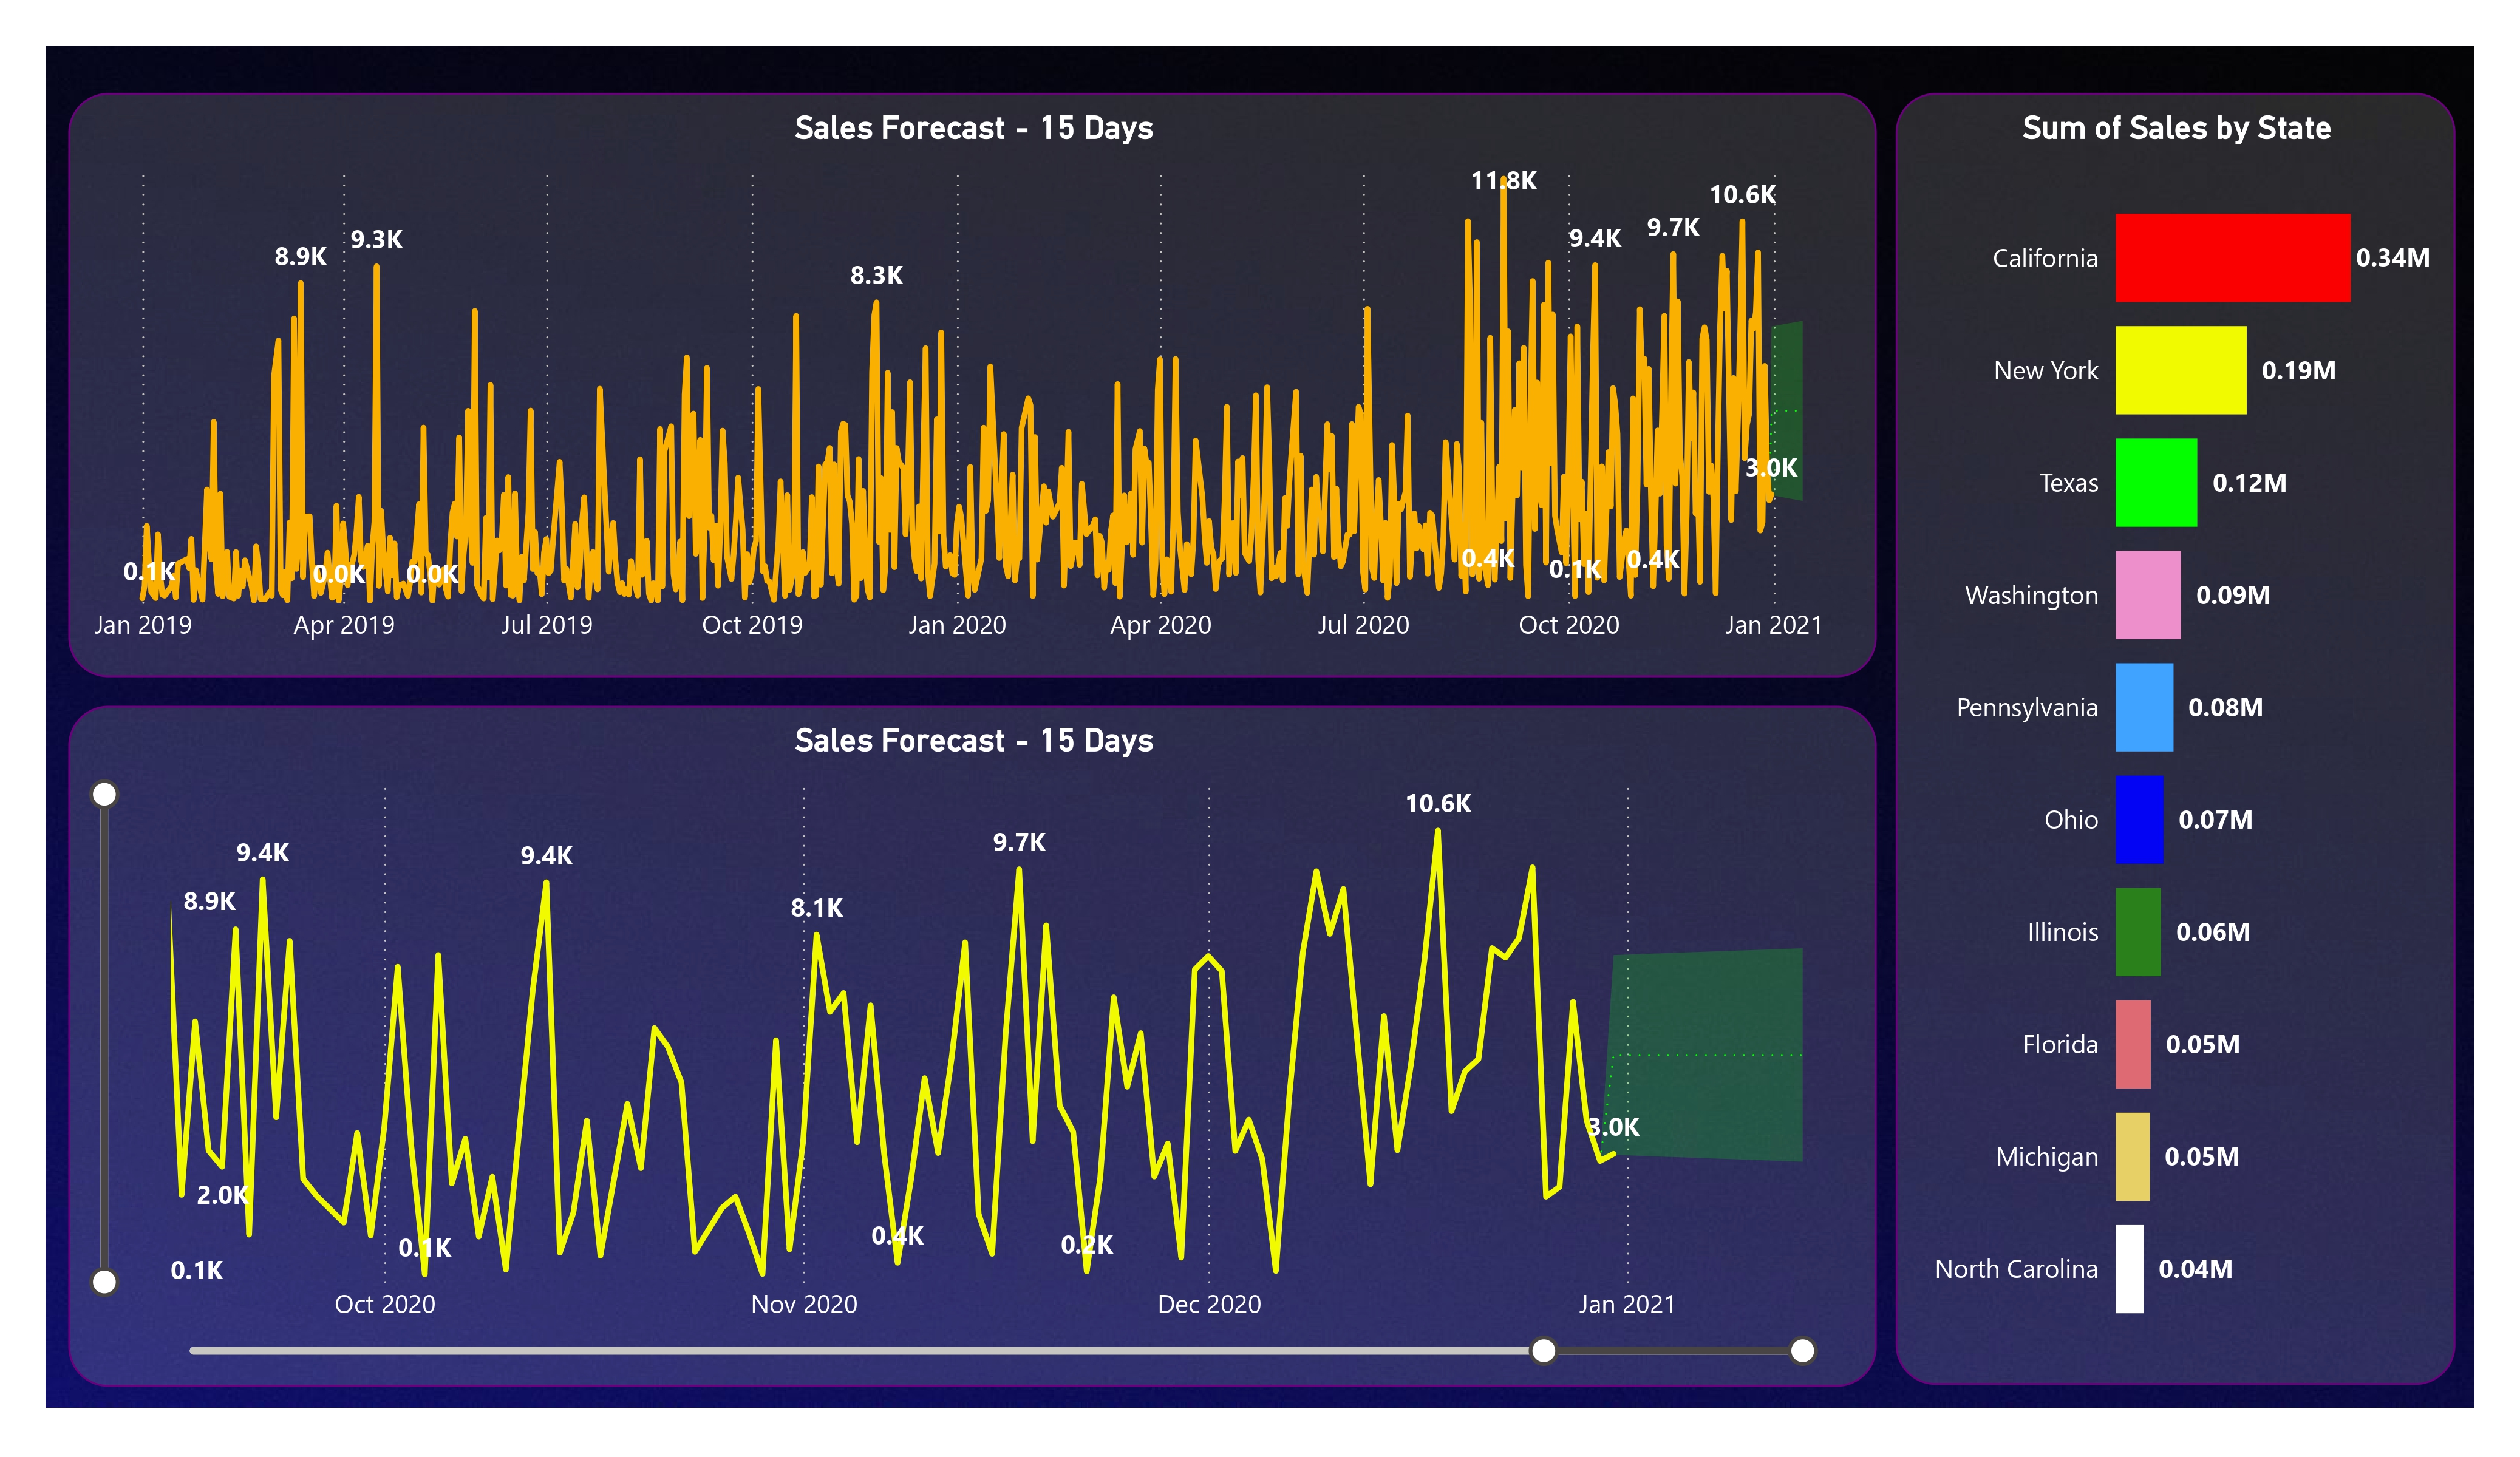

The page's visual inventory and layout, read from the dashboard file:
{"tool":"powerbi","page":{"name":"Sales Forecast","canvas":[1280,720],"ordinal":1},"visuals":[{"type":"lineChart","title":"Sales Forecast - 15 Days","fields":{"Y":["Sum(SuperStore_Sales_Dataset.Sales)"],"Category":["SuperStore_Sales_Dataset.Order Date"]},"box":[11.7,25,953.3,308.3],"z":0},{"type":"lineChart","title":"Sales Forecast - 15 Days","fields":{"Y":["Sum(SuperStore_Sales_Dataset.Sales)"],"Category":["SuperStore_Sales_Dataset.Order Date"]},"box":[11.7,348.3,953.3,358.3],"z":1000},{"type":"clusteredBarChart","fields":{"Y":["Sum(SuperStore_Sales_Dataset.Sales)"],"Category":["SuperStore_Sales_Dataset.State"]},"box":[975,25,295,681.2],"z":1001}]}

Visuals, with their boxes on the page's 1280x720 design canvas (x1, y1, x2, y2). These are canvas units, not pixel positions in the 2520x1457 screenshot, which may show the page scaled, cropped or inside an application window:
"Sales Forecast - 15 Days" lineChart: x1=12 y1=25 x2=965 y2=333
"Sales Forecast - 15 Days" lineChart: x1=12 y1=348 x2=965 y2=707
clusteredBarChart - Sum(SuperStore_Sales_Dataset.Sales) x SuperStore_Sales_Dataset.State: x1=975 y1=25 x2=1270 y2=706
